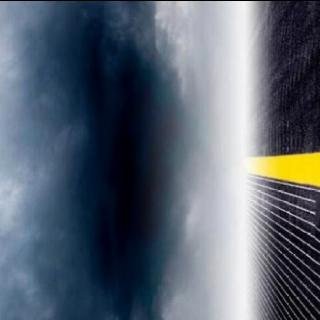Nimbostratus: (0, 0, 229, 320)
